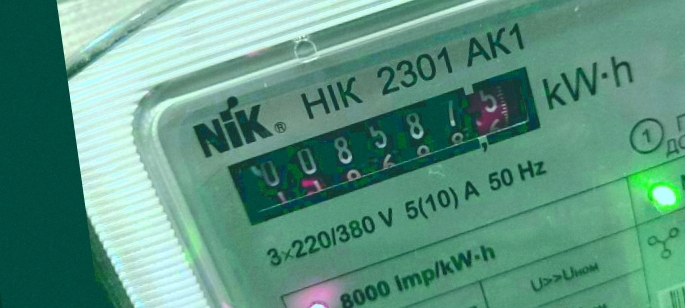0: (254, 153, 285, 189), (291, 140, 321, 177)
5: (364, 117, 391, 151), (474, 80, 500, 114)
6: (484, 114, 504, 134)
7: (437, 94, 463, 131)
8: (400, 106, 428, 142), (329, 131, 357, 166)
screen: (210, 61, 571, 229)
